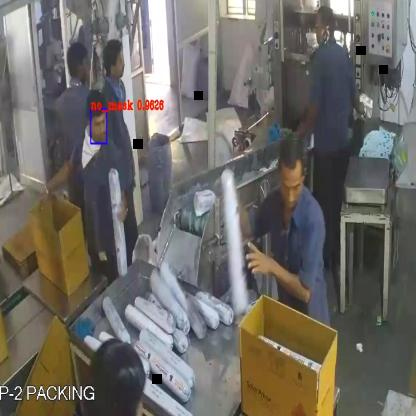no_glove: (238, 236, 321, 312), (25, 156, 74, 209)
